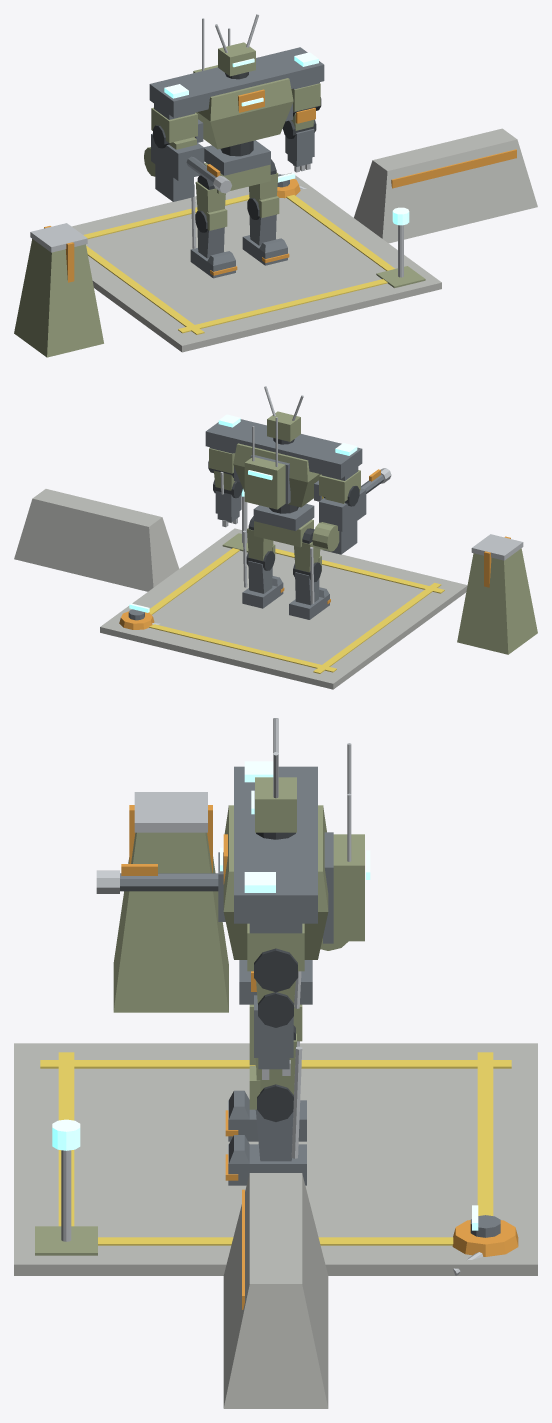
File: mech-hangar-and-battle-frames-weapon-swap-deployment-1780ea4e__27000.glb
3 views of the same model, one above another, from view 1: azimuth 30°, elevation 25°; view 2: azimuth 150°, elevation 25°; view 3: azimuth 270°, elevation 25° (orthographic). The views are drawn at different scales.
Parts seen in each view (by area): view 1: 000-deployment-pad/0, 007-cover-barrier/0, 009-supply-drop-pod/0, 002-line-torso/0, 002-line-torso/2, 000-deployment-pad/1, 001-line-legs/0, 003-autocannon-arm/gun (×2), 001-line-legs/1, 007-cover-barrier/1, 009-supply-drop-pod/2, 003-autocannon-arm/1 (+8 smaller); view 2: 000-deployment-pad/0, 007-cover-barrier/0, 009-supply-drop-pod/0, 002-line-torso/0, 000-deployment-pad/1, 001-line-legs/0, 003-autocannon-arm/gun (×2), 001-line-legs/1, 002-line-torso/2, 006-communications-pack/0, 009-supply-drop-pod/2, 003-autocannon-arm/1 (+7 smaller); view 3: 000-deployment-pad/0, 007-cover-barrier/0, 009-supply-drop-pod/0, 002-line-torso/0, 000-deployment-pad/1, 001-line-legs/0, 006-communications-pack/0, 002-line-torso/2, 009-supply-drop-pod/2, 004-line-arm/elbow (×2), 005-antenna-crown-head/0, 003-autocannon-arm/gun (+10 smaller).
Boxes of the visible parts, <box> form: 000-deployment-pad/0: <box>72,172,441,352</box>; 007-cover-barrier/0: <box>354,128,537,243</box>; 009-supply-drop-pod/0: <box>14,239,103,357</box>; 002-line-torso/0: <box>149,47,324,169</box>; 002-line-torso/2: <box>195,78,293,149</box>; 000-deployment-pad/1: <box>83,194,394,334</box>; 001-line-legs/0: <box>190,155,287,278</box>; 003-autocannon-arm/gun (×2): <box>144,133,216,201</box>; 001-line-legs/1: <box>195,163,279,230</box>; 007-cover-barrier/1: <box>391,149,516,188</box>; 009-supply-drop-pod/2: <box>30,223,87,252</box>; 003-autocannon-arm/1: <box>151,107,197,142</box>; 000-deployment-pad/0: <box>100,528,467,689</box>; 007-cover-barrier/0: <box>14,489,179,591</box>; 009-supply-drop-pod/0: <box>457,548,537,654</box>; 002-line-torso/0: <box>205,419,362,525</box>; 000-deployment-pad/1: <box>149,548,444,673</box>; 001-line-legs/0: <box>242,512,329,619</box>; 003-autocannon-arm/gun (×2): <box>312,474,383,554</box>; 001-line-legs/1: <box>247,519,321,572</box>; 002-line-torso/2: <box>233,443,320,507</box>; 006-communications-pack/0: <box>244,457,285,509</box>; 009-supply-drop-pod/2: <box>471,534,523,560</box>; 003-autocannon-arm/1: <box>319,470,360,501</box>; 000-deployment-pad/0: <box>14,1043,537,1275</box>; 007-cover-barrier/0: <box>223,1173,328,1408</box>; 009-supply-drop-pod/0: <box>113,832,228,1012</box>; 002-line-torso/0: <box>234,766,333,993</box>; 000-deployment-pad/1: <box>40,1052,511,1245</box>; 001-line-legs/0: <box>228,993,312,1185</box>; 006-communications-pack/0: <box>333,834,364,941</box>; 002-line-torso/2: <box>223,805,328,959</box>; 009-supply-drop-pod/2: <box>134,792,207,832</box>; 004-line-arm/elbow (×2): <box>254,992,293,1069</box>; 005-antenna-crown-head/0: <box>255,777,296,832</box>; 003-autocannon-arm/gun: <box>120,852,225,921</box>.
Bounding box in the file's own units: 10.05 × 4.53 × 5.
